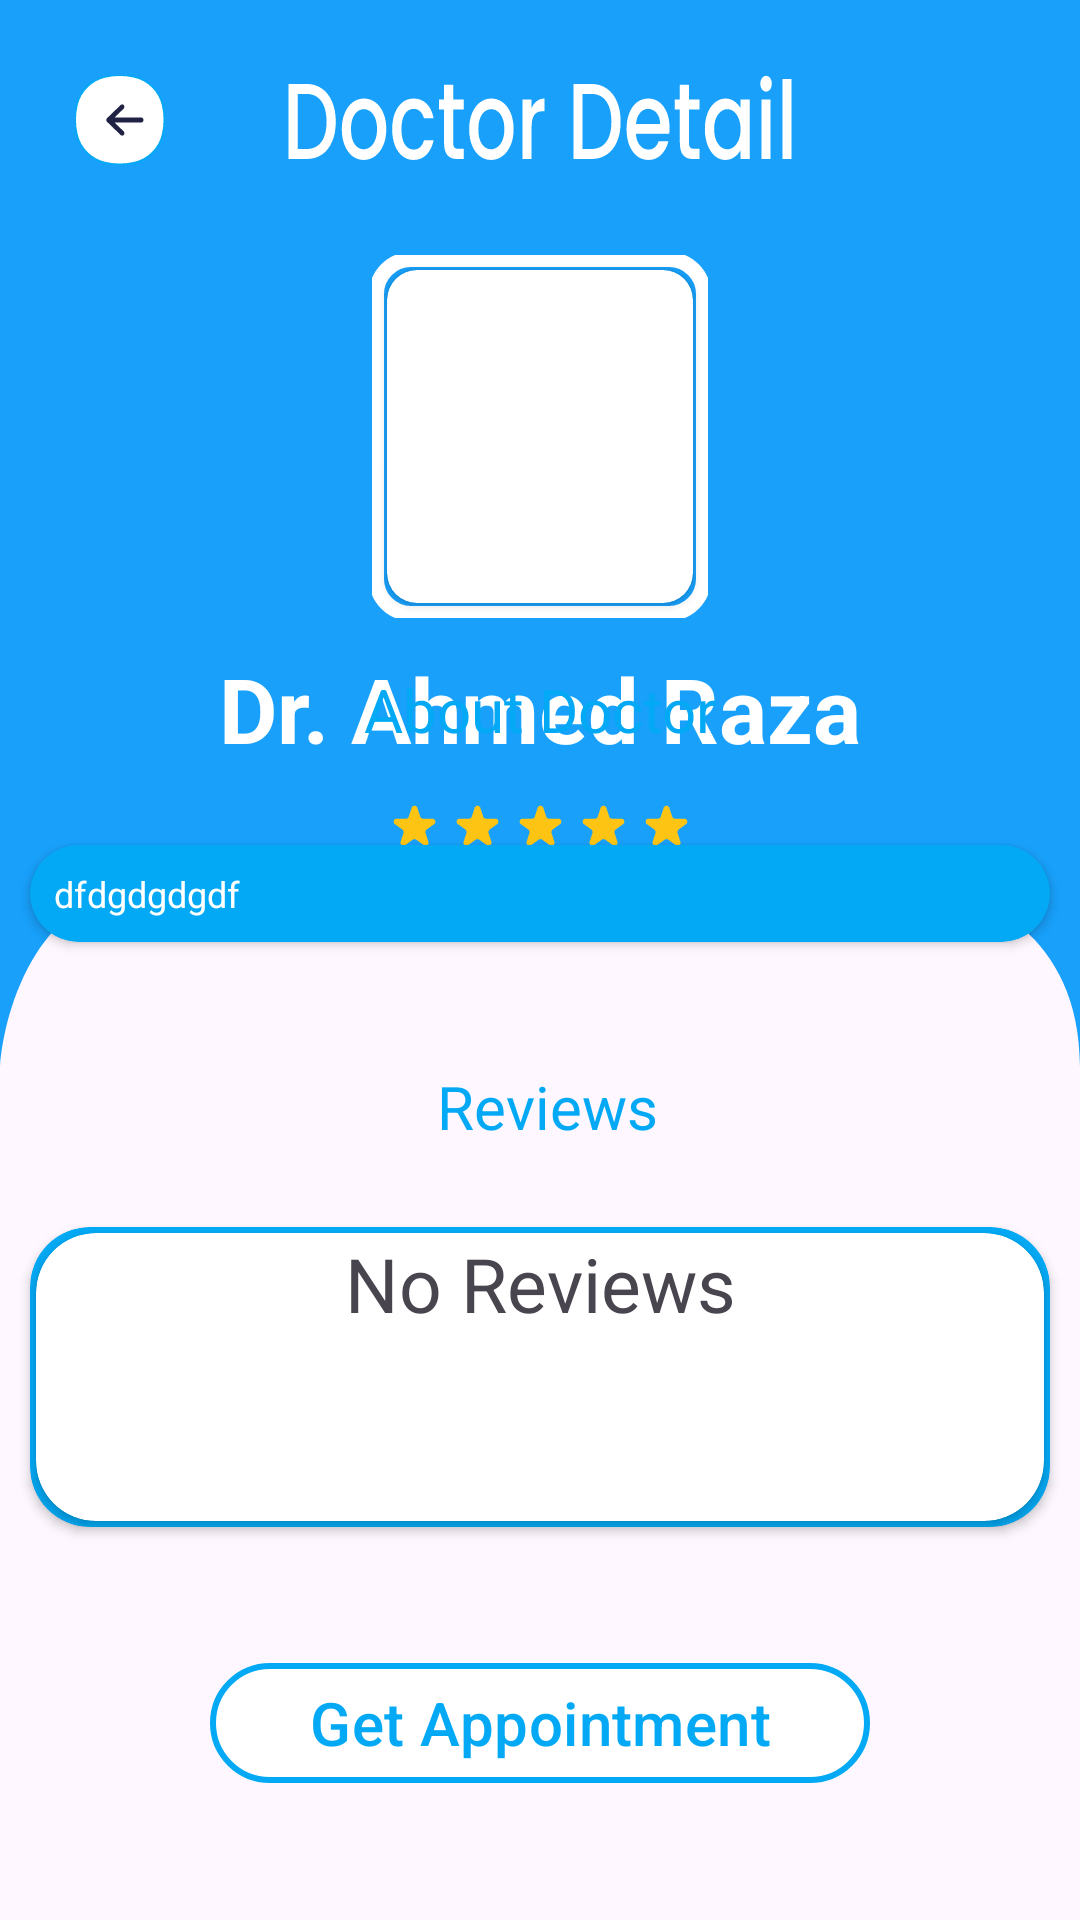

Where icons sit on this 1080 x 1920 app screen, as detection(x1, y1, x2, y2):
back: detection(76, 76, 164, 164)
